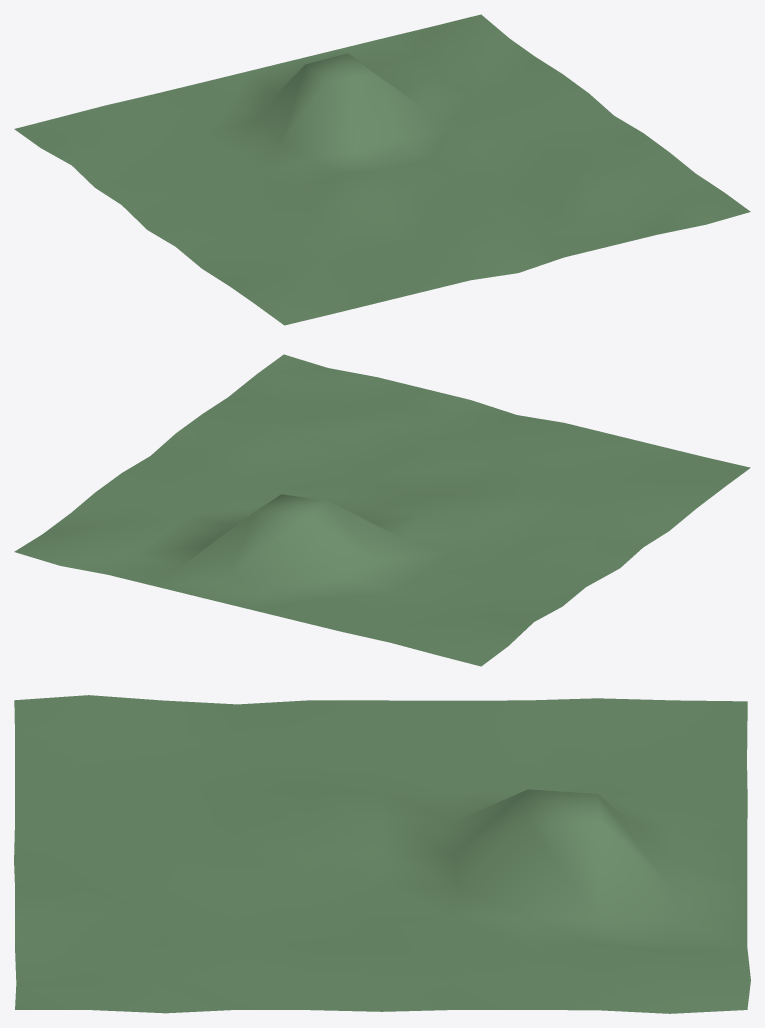
File: model_ground.fbx
3 views of the same model, one above another, from view 1: azimuth 30°, elevation 25°; view 2: azimuth 150°, elevation 25°; view 3: azimuth 270°, elevation 25° (orthographic). The views are drawn at different scales.
Visible parts, largest first — view 1: model_ground; view 2: model_ground; view 3: model_ground.
Part boxes in pixels (box(x1,y1,x2,y2)): model_ground: box(14, 14, 750, 325); model_ground: box(14, 354, 750, 666); model_ground: box(14, 695, 750, 1013).
Bounding box in the file's own units: 15865 × 1703 × 15863.
